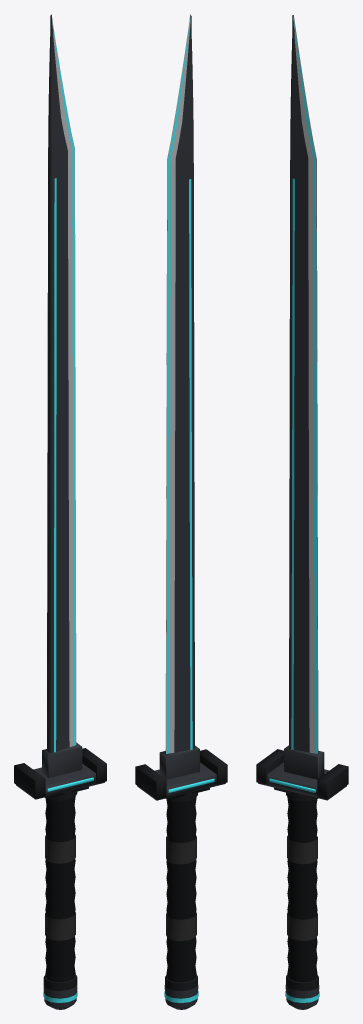
File: gear_neon_monoblade.glb
3 views of the same model, side by side, from view 1: azimuth 30°, elevation 25°; view 2: azimuth 210°, elevation 25°; view 3: azimuth 330°, elevation 25° (orthographic).
Visible parts, largest first — view 1: gear_neon_monoblade; view 2: gear_neon_monoblade; view 3: gear_neon_monoblade.
Boxes of the visible parts, bbox=[...] form: gear_neon_monoblade: bbox=[14, 14, 106, 1009]; gear_neon_monoblade: bbox=[135, 14, 227, 1009]; gear_neon_monoblade: bbox=[256, 15, 348, 1009].
Size of the model in its own units: 0.084 by 1.11 by 0.044.
